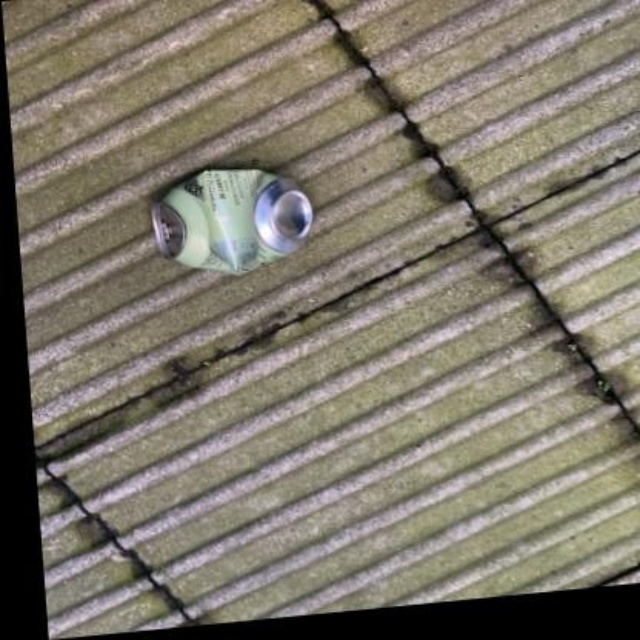trash: (152, 169, 311, 271)
